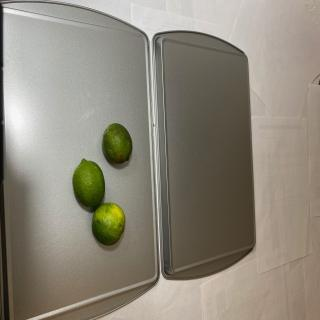Chilli: (101, 122, 132, 164)
Lemon: (72, 158, 105, 208), (92, 202, 125, 246)
